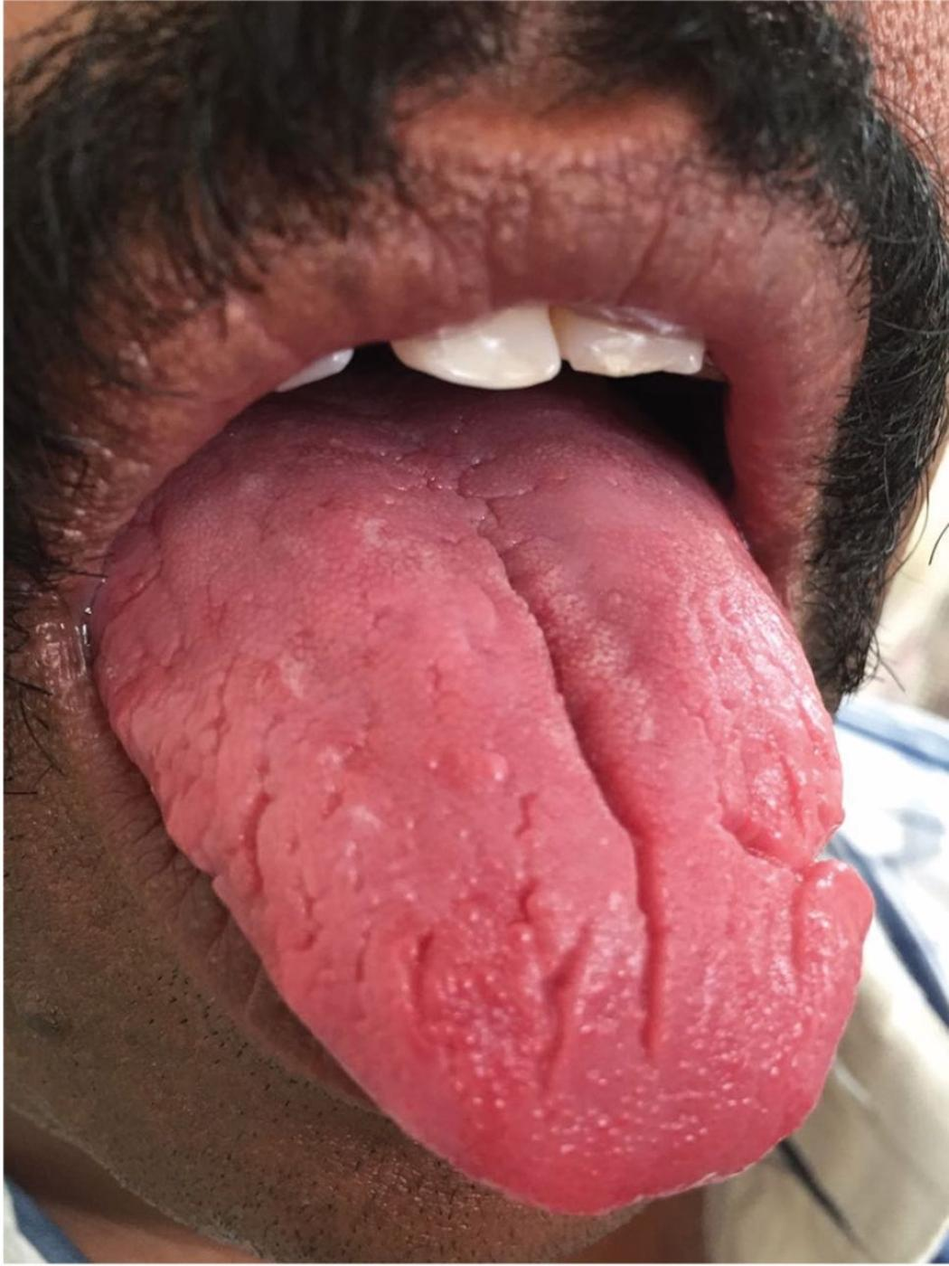hongshe: (107, 429, 878, 1218)
liewenshe: (488, 543, 859, 1074)
